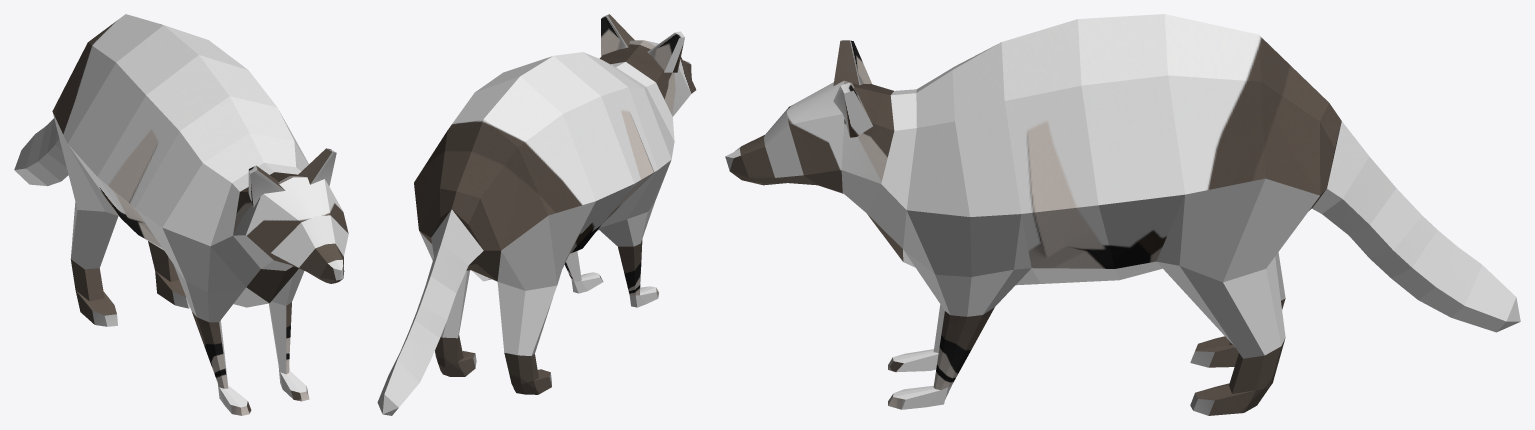
The model's file is d2eea7ce-98c4-4689-94f8-816cf2a03edd.glb.
The picture shows the model from 3 angles, left to right: view 1: azimuth 30°, elevation 25°; view 2: azimuth 150°, elevation 25°; view 3: azimuth 270°, elevation 25°; orthographic projection. The views are drawn at different scales.
Visible parts, largest first — view 1: Geo_Raccoon; view 2: Geo_Raccoon; view 3: Geo_Raccoon.
Boxes of the visible parts, <box> form: Geo_Raccoon: <box>14,14,348,415</box>; Geo_Raccoon: <box>377,14,696,415</box>; Geo_Raccoon: <box>725,14,1520,415</box>.
Bounding box in the file's own units: 23.12 × 35.88 × 69.22.
1 material, 1 textured.
